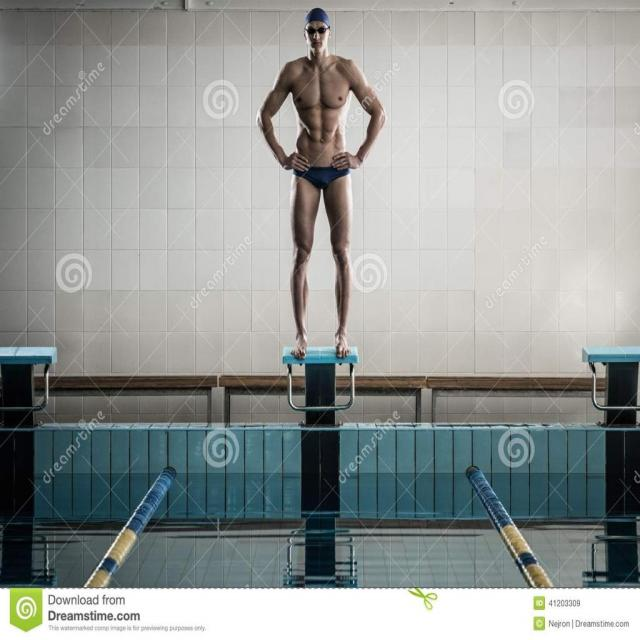nomask: (304, 18, 328, 52)
